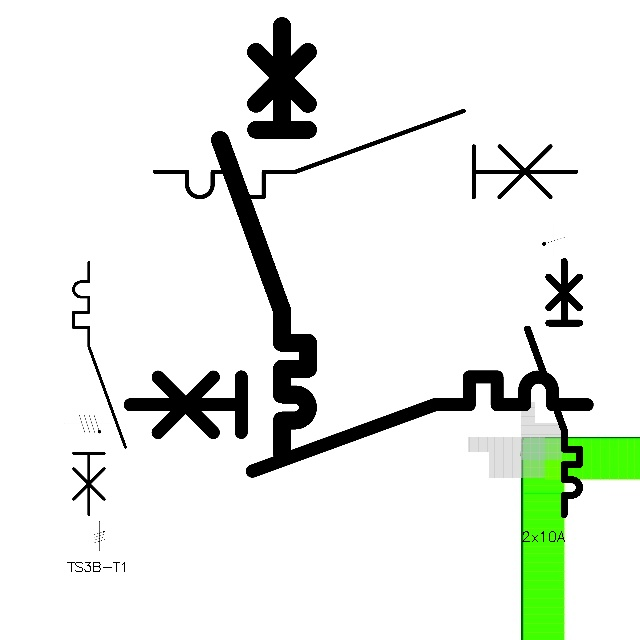interruptor_termomagnetico: (118, 365, 599, 482), (209, 15, 319, 464), (144, 100, 587, 208), (521, 255, 586, 521), (67, 256, 131, 521)
